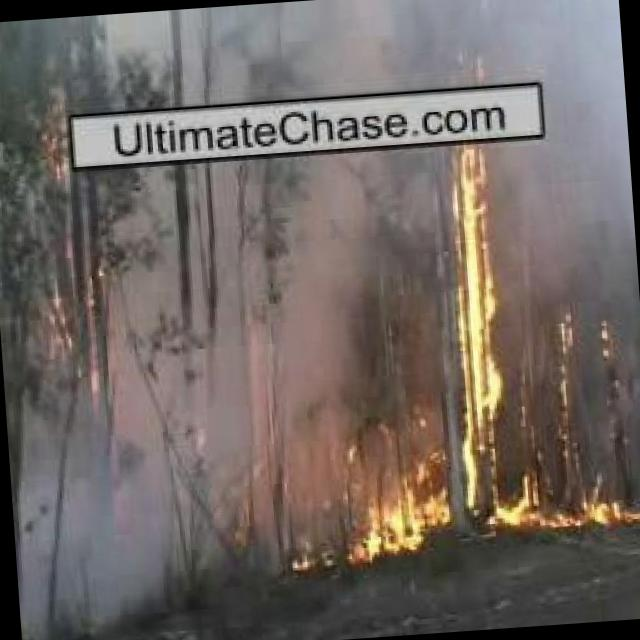Fire: (444, 138, 522, 532), (302, 432, 454, 566), (28, 266, 100, 393), (520, 467, 640, 534), (11, 91, 72, 204), (552, 311, 586, 435)
Smoke: (0, 135, 640, 482), (0, 0, 623, 117)
